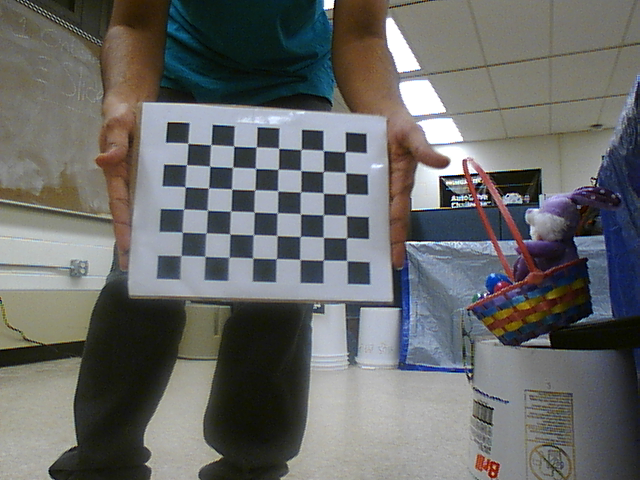bunny: (458, 152, 602, 345)
